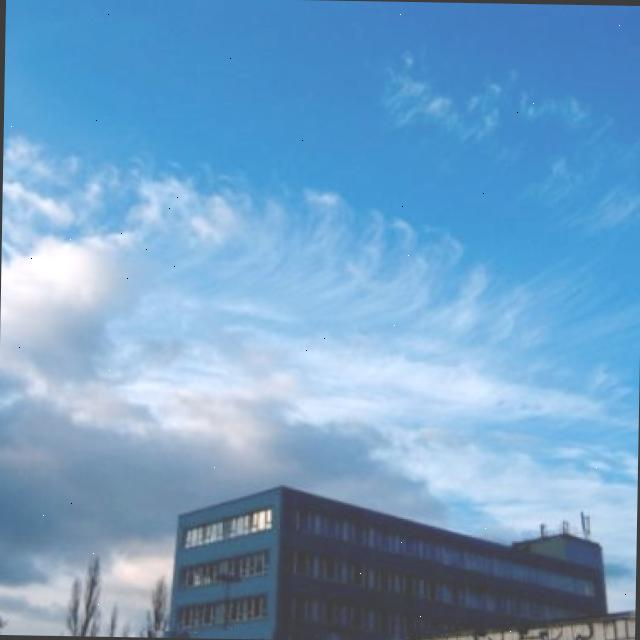Ci: (1, 90, 640, 475)
